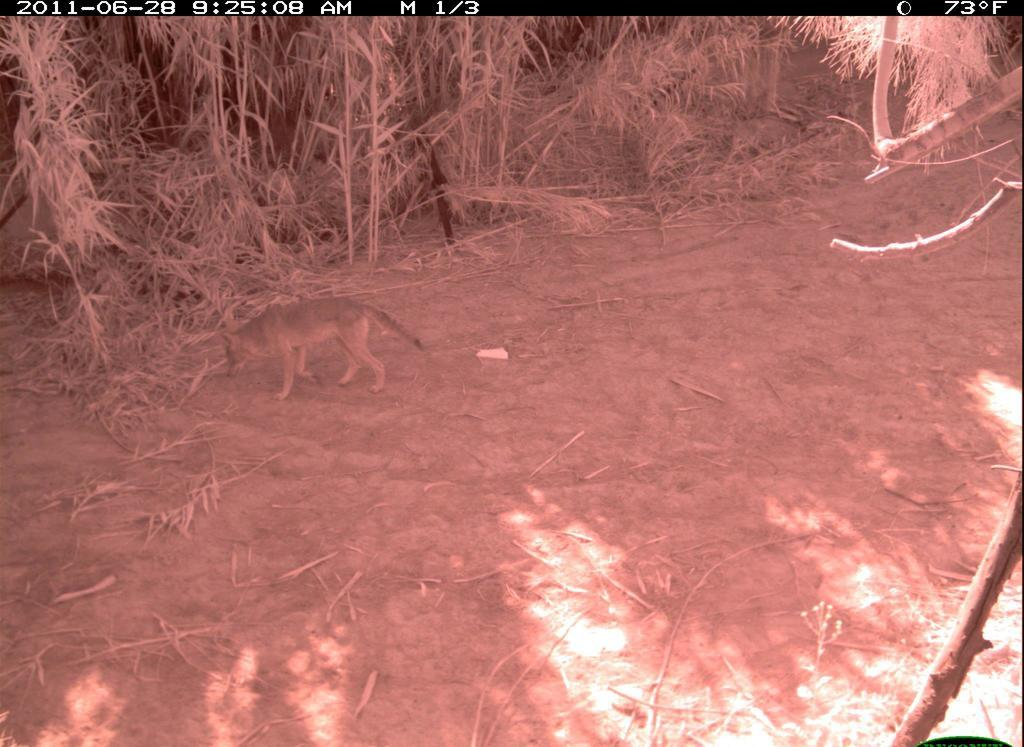coyote: (213, 285, 440, 410)
